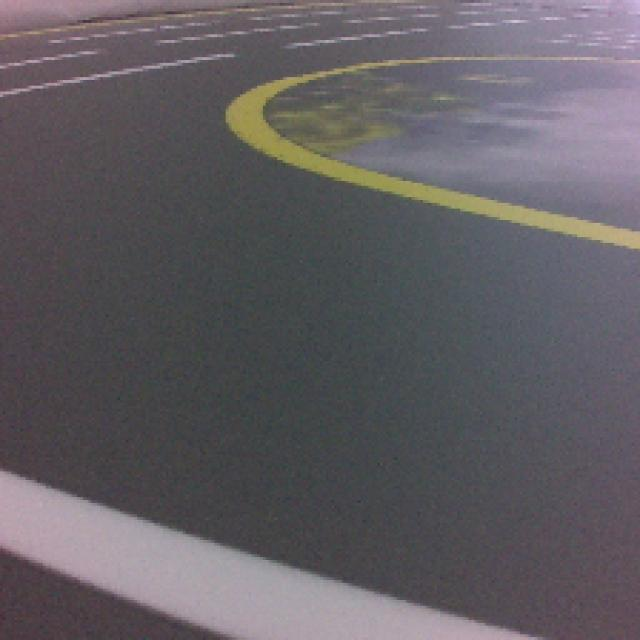Pedestrian crosswalk: (0, 471, 543, 640)
